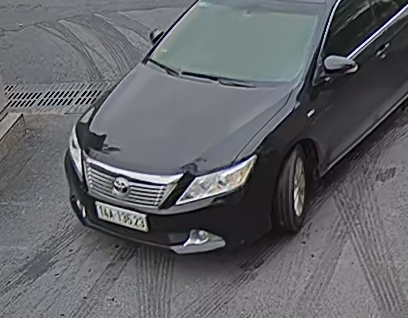vehicle plate: (95, 198, 149, 232)
